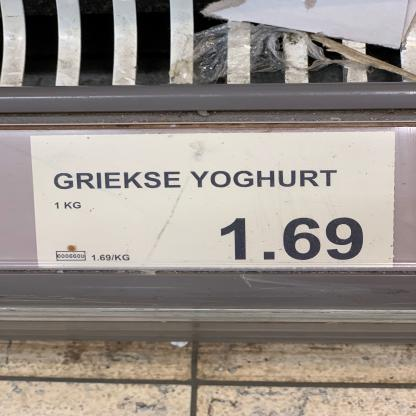prtg: (31, 133, 398, 270)
